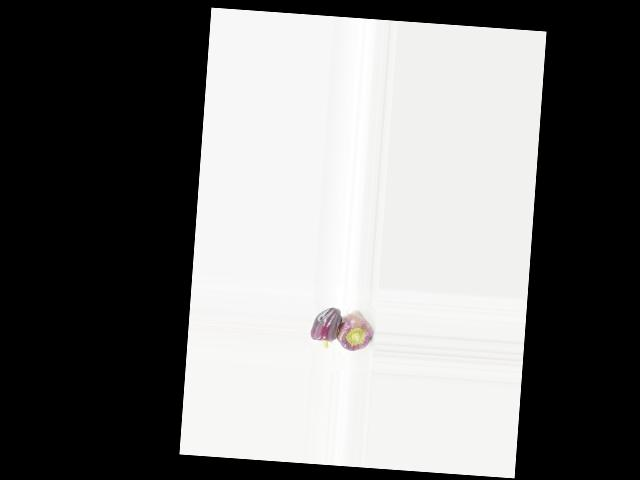bell_pepper: (334, 301, 376, 360)
